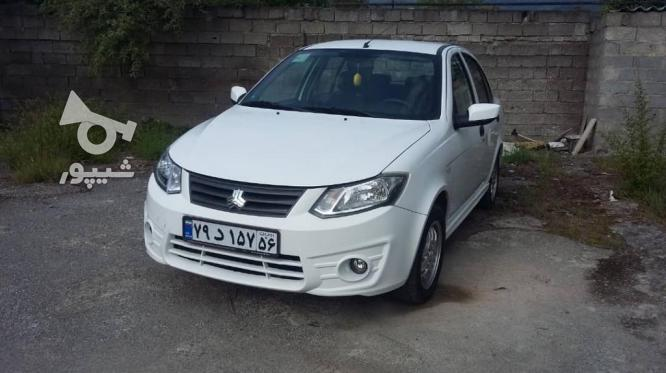car: (182, 215, 282, 257)
